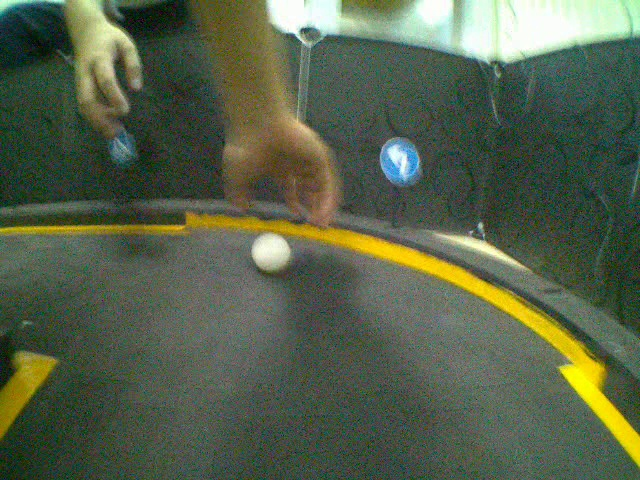ball: (252, 232, 293, 275)
